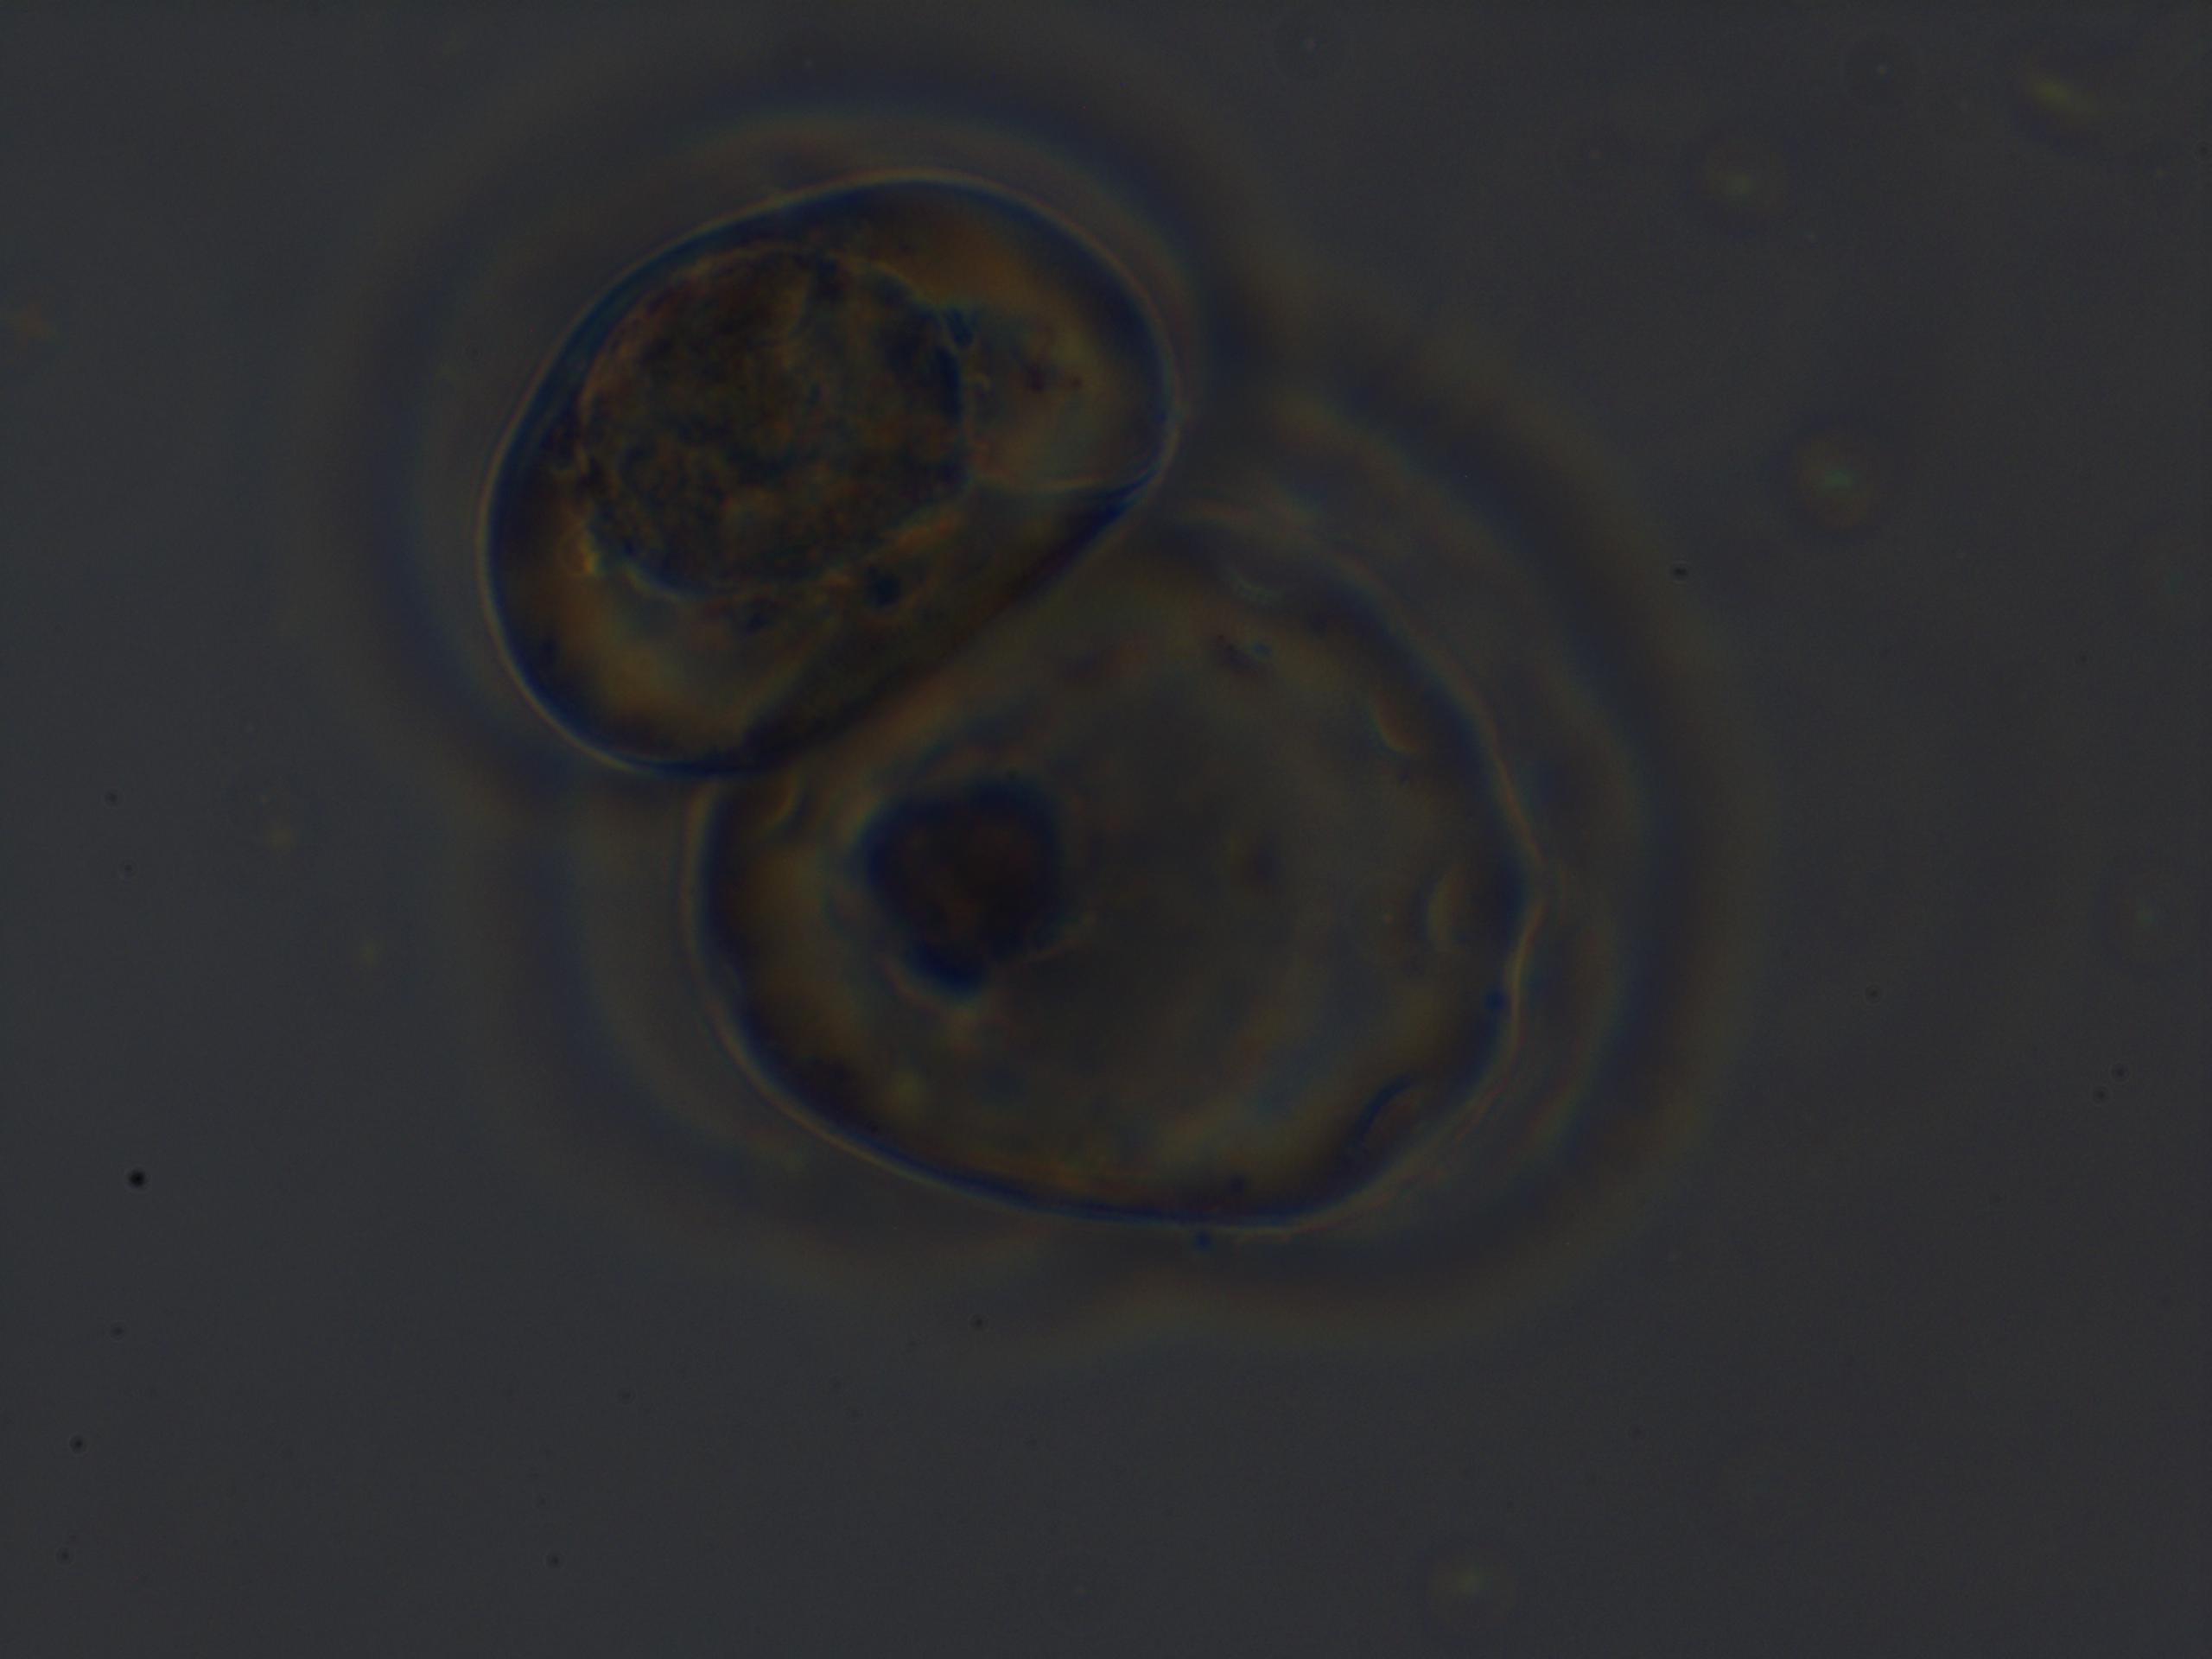protozoa: (664, 484, 1566, 1237), (462, 157, 1186, 812)
